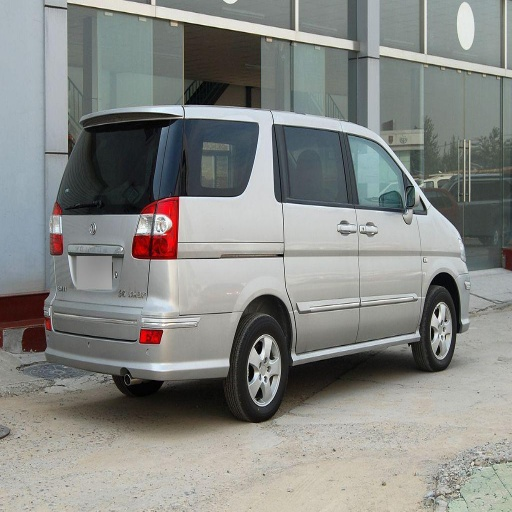back_bumper: (42, 257, 228, 381)
back_right_door: (279, 122, 357, 344)
tailgate: (62, 208, 123, 271)
trunk: (58, 200, 293, 355)
